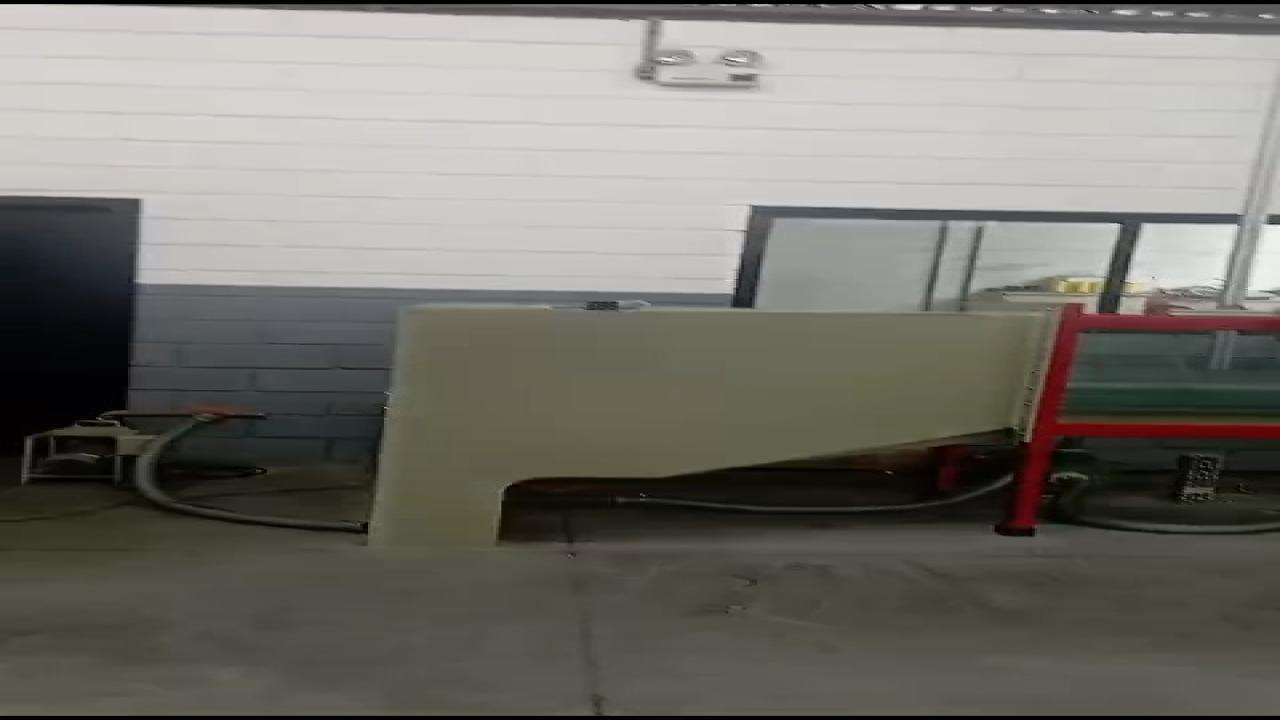Cube: (584, 301, 618, 310)
